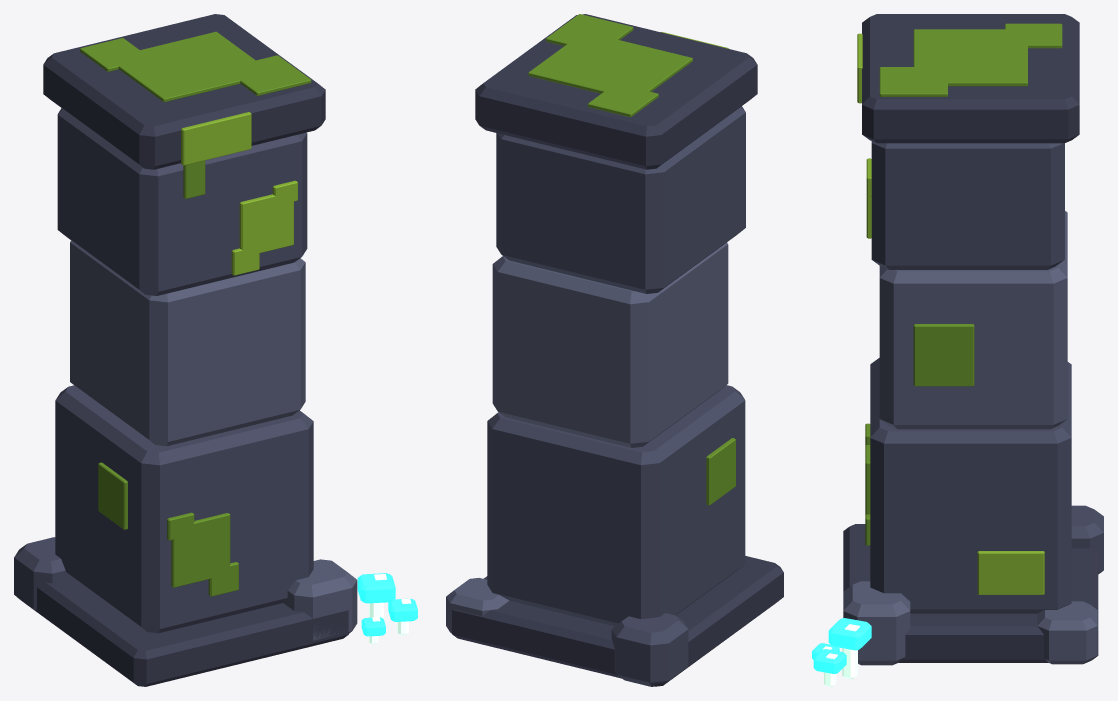
Rendered from Bogheart_CornerPillar.glb.
The picture shows the model from 3 angles, left to right: view 1: azimuth 30°, elevation 25°; view 2: azimuth 150°, elevation 25°; view 3: azimuth 270°, elevation 25°; orthographic projection.
Visible parts, largest first — view 1: CornerPillar, CornerPillar_block_cap, CornerPillar_plinth, CornerPillar_moss_top, CornerPillar_moss_front_a, CornerPillar_moss_front_b, CornerPillar_moss_drape, CornerPillar_moss_top_step_a, CornerPillar_moss_side_c, CornerPillar_moss_top_step_b, CornerPillar_foot_mushrooms_a_cap_Glow, CornerPillar_moss_front_a_step_a (+2 smaller); view 2: CornerPillar, CornerPillar_block_cap, CornerPillar_plinth, CornerPillar_moss_top, CornerPillar_moss_top_step_a, CornerPillar_moss_side_c, CornerPillar_moss_top_step_b; view 3: CornerPillar, CornerPillar_block_cap, CornerPillar_plinth, CornerPillar_moss_top, CornerPillar_moss_side_a, CornerPillar_moss_side_b, CornerPillar_moss_top_step_a, CornerPillar_moss_top_step_b, CornerPillar_foot_mushrooms_a_cap_Glow, CornerPillar_foot_mushrooms_b_cap_Glow.
Part boxes in pixels (bbox=[...]): CornerPillar: bbox=[14, 108, 357, 672]; CornerPillar_block_cap: bbox=[43, 14, 325, 169]; CornerPillar_plinth: bbox=[17, 578, 349, 686]; CornerPillar_moss_top: bbox=[109, 31, 271, 102]; CornerPillar_moss_front_a: bbox=[171, 513, 230, 587]; CornerPillar_moss_front_b: bbox=[239, 192, 293, 256]; CornerPillar_moss_drape: bbox=[181, 112, 251, 165]; CornerPillar_moss_top_step_a: bbox=[225, 55, 311, 95]; CornerPillar_moss_side_c: bbox=[98, 462, 127, 529]; CornerPillar_moss_top_step_b: bbox=[80, 38, 149, 71]; CornerPillar_foot_mushrooms_a_cap_Glow: bbox=[357, 573, 395, 603]; CornerPillar_moss_front_a_step_a: bbox=[208, 562, 238, 596]; CornerPillar: bbox=[446, 106, 783, 686]; CornerPillar_block_cap: bbox=[475, 14, 757, 169]; CornerPillar_plinth: bbox=[452, 556, 783, 686]; CornerPillar_moss_top: bbox=[528, 31, 692, 98]; CornerPillar_moss_top_step_a: bbox=[546, 14, 633, 49]; CornerPillar_moss_side_c: bbox=[706, 438, 735, 505]; CornerPillar_moss_top_step_b: bbox=[587, 83, 658, 117]; CornerPillar: bbox=[843, 141, 1103, 665]; CornerPillar_block_cap: bbox=[862, 14, 1079, 143]; CornerPillar_plinth: bbox=[843, 524, 1098, 662]; CornerPillar_moss_top: bbox=[913, 29, 1027, 86]; CornerPillar_moss_side_a: bbox=[913, 324, 974, 386]; CornerPillar_moss_side_b: bbox=[977, 551, 1044, 594]; CornerPillar_moss_top_step_a: bbox=[879, 67, 947, 96]; CornerPillar_moss_top_step_b: bbox=[1005, 23, 1062, 48]; CornerPillar_foot_mushrooms_a_cap_Glow: bbox=[828, 618, 871, 650]; CornerPillar_foot_mushrooms_b_cap_Glow: bbox=[813, 649, 846, 673].
Size of the model in its own units: 2.39 by 4.59 by 2.17.
